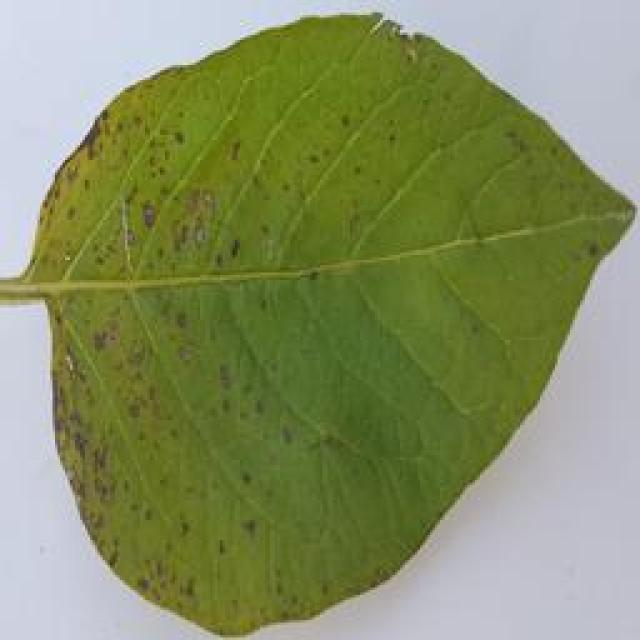Potato_Early_Blight: (5, 6, 628, 632)
